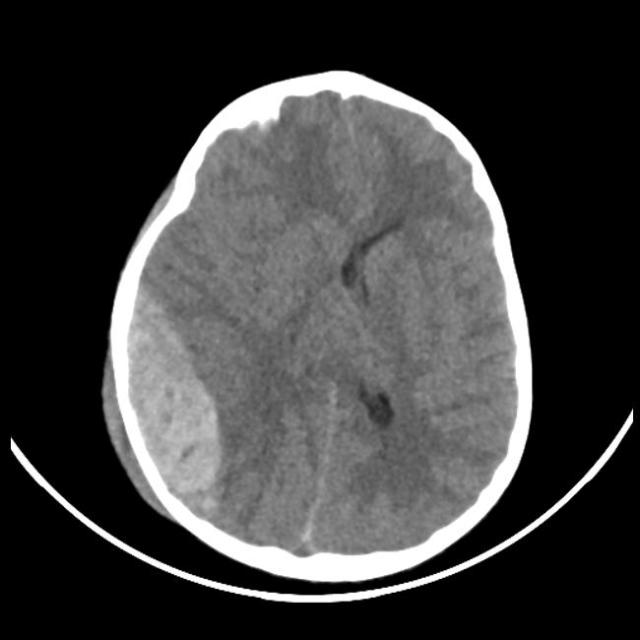lesion: (101, 72, 534, 562)
